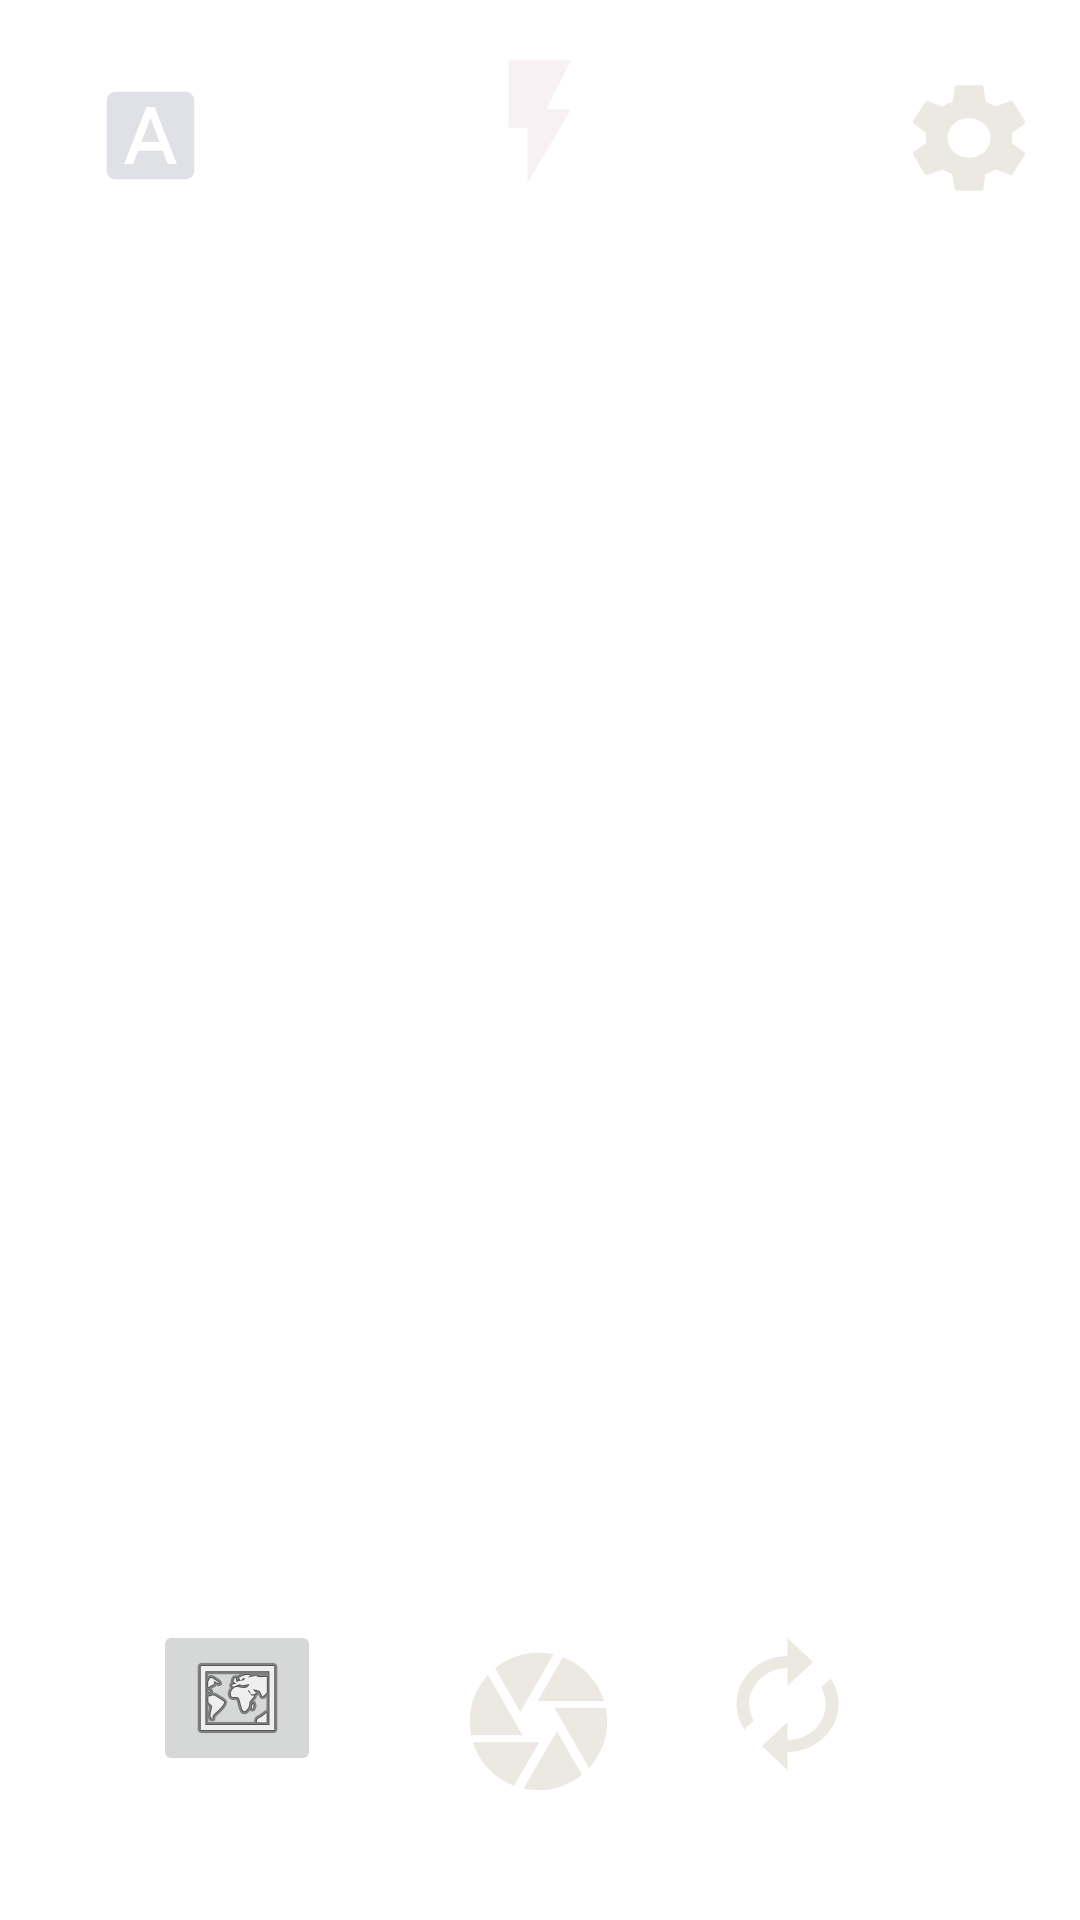

Screen size 1080×1920. Icon name, then its box in pixels as box=[x1, y1, x2, y2]:
autorenew: box=[737, 1639, 838, 1769]
font download: box=[107, 92, 194, 179]
mapmode: box=[165, 1638, 309, 1758]
settings: box=[913, 86, 1025, 190]
